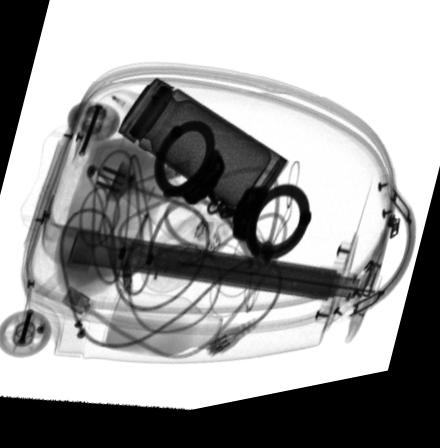HandCuffs: (153, 127, 314, 270)
